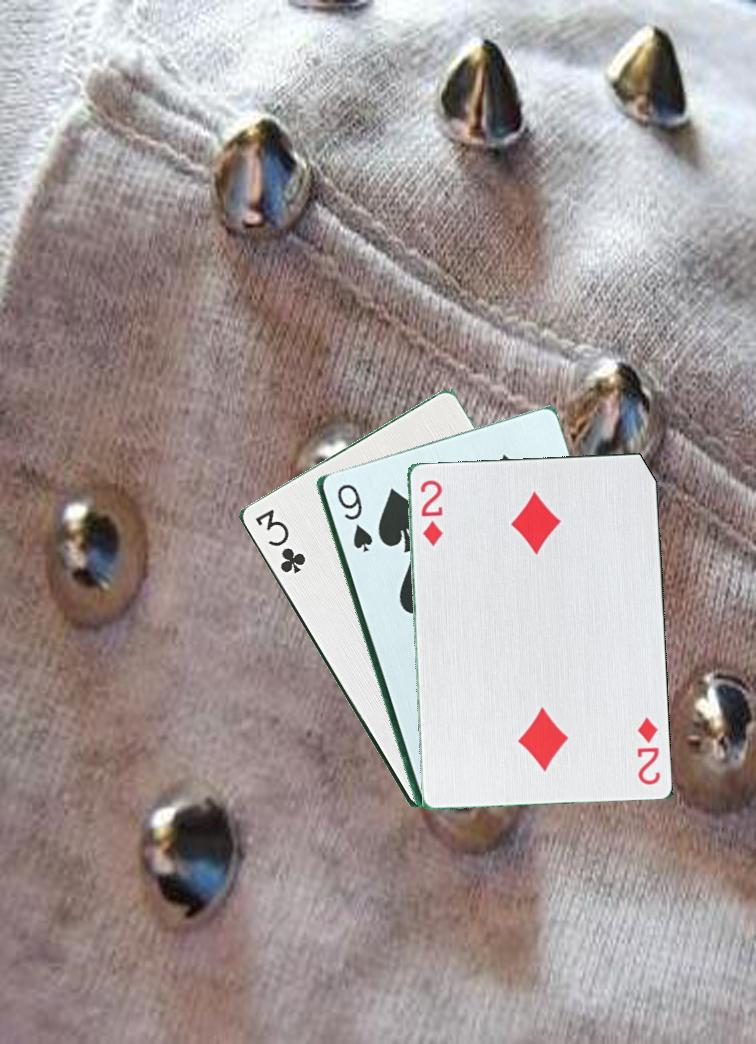2d: (416, 469, 446, 549), (633, 713, 663, 787)
3c: (251, 505, 314, 576)
9s: (333, 480, 373, 555)
